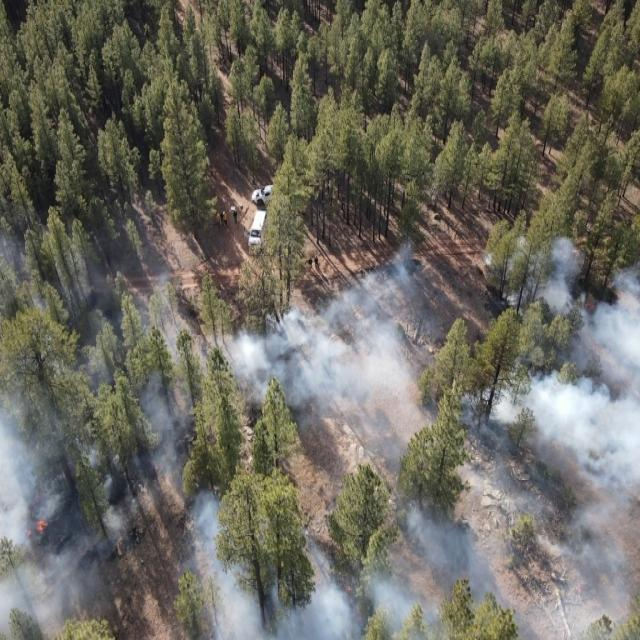fire: (344, 580, 369, 624), (23, 512, 50, 544), (584, 299, 597, 319)
smoke: (0, 212, 640, 640)
